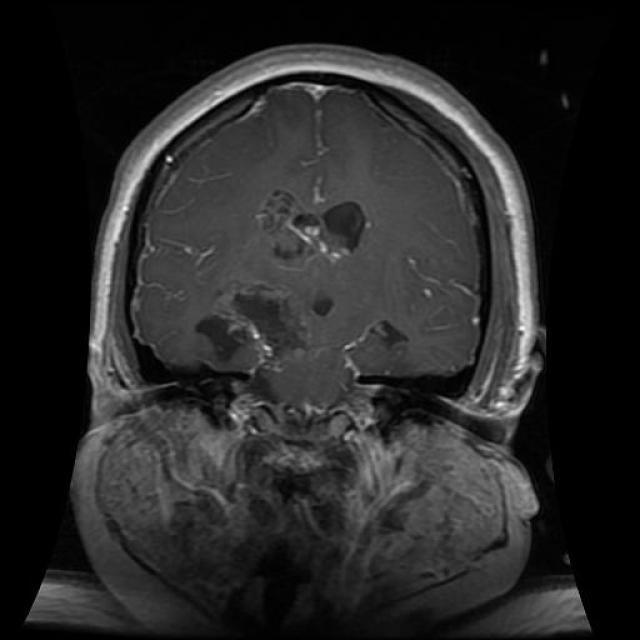glioma: (248, 181, 372, 265)
